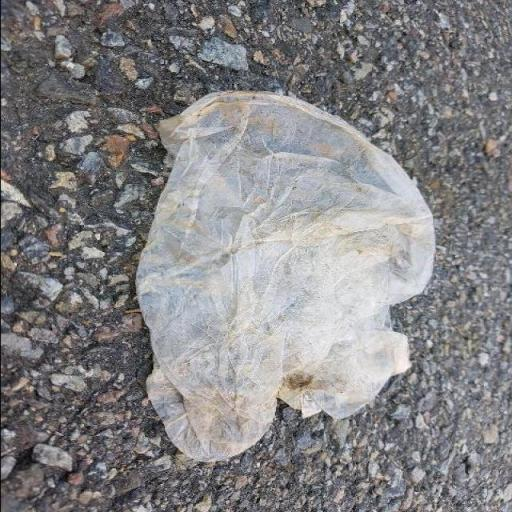plastic-bag: (129, 86, 437, 460)
